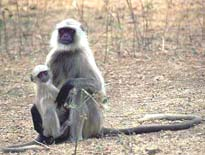langur: (28, 19, 199, 134), (28, 60, 71, 142)
